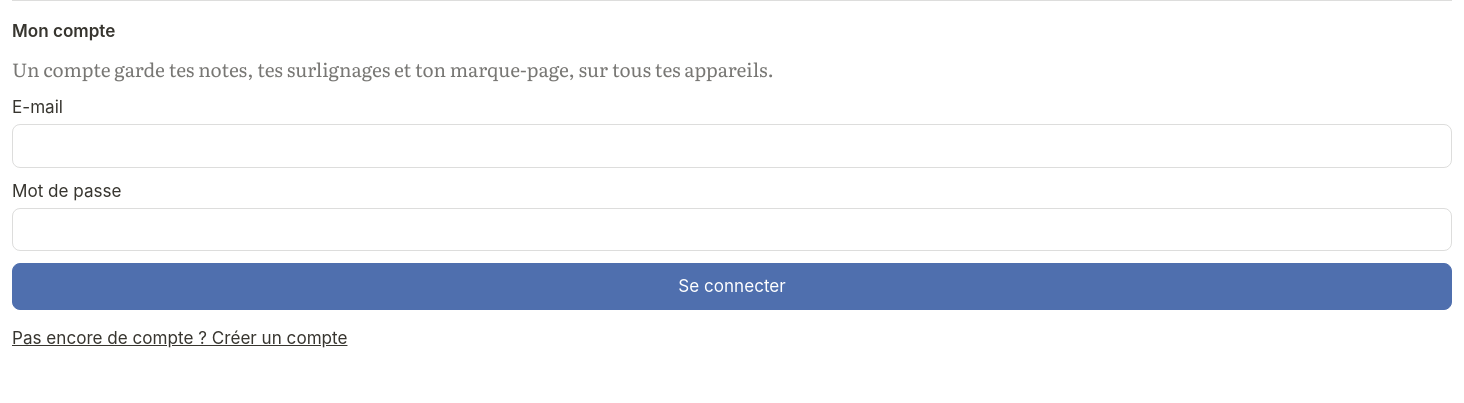
Test case: AccountSection › l'étape du code : renvoyer un code, ou changer d'adresse
The width and height of the screenshot is (1464, 403).
Type "marin@exemple.fr" into the field labelled "E-mail" at [732, 146], box [12,124,1452,168]
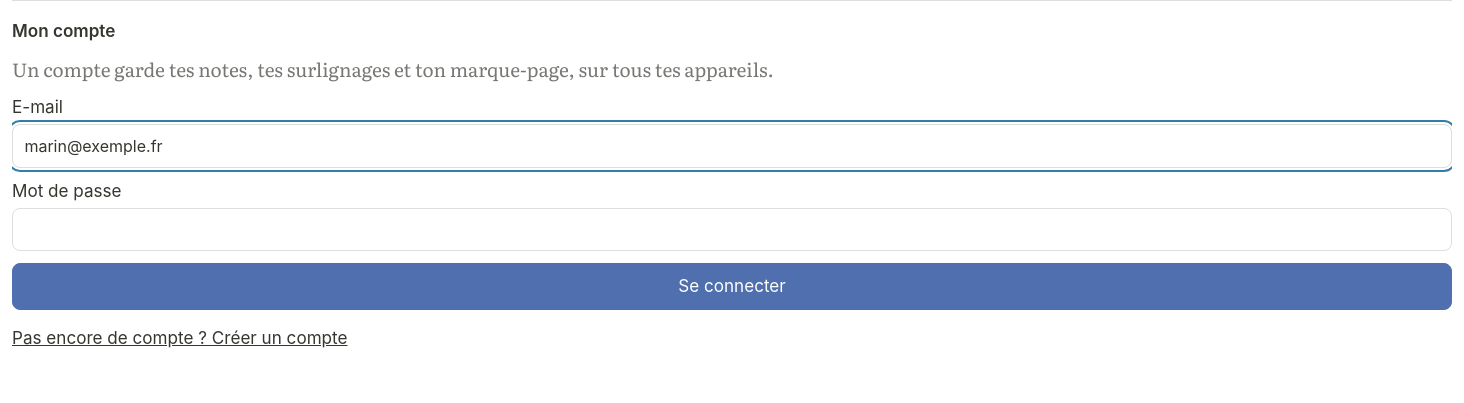
Type "un mot de passe long" into the password field labelled "Mot de passe" at [732, 230], box [12,208,1452,252]
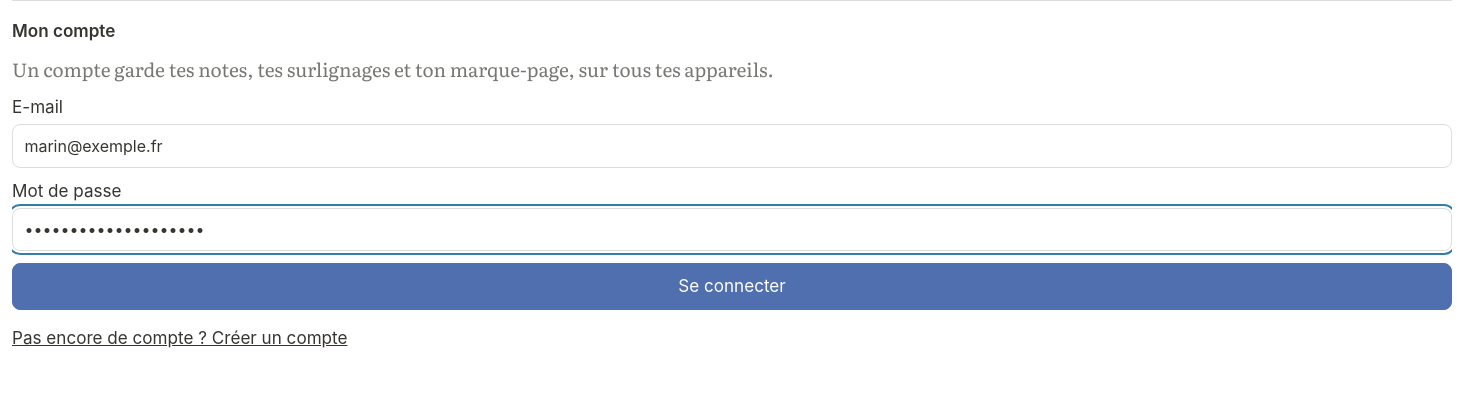
Click the button "Se connecter" at [732, 286], box [12,263,1452,310]
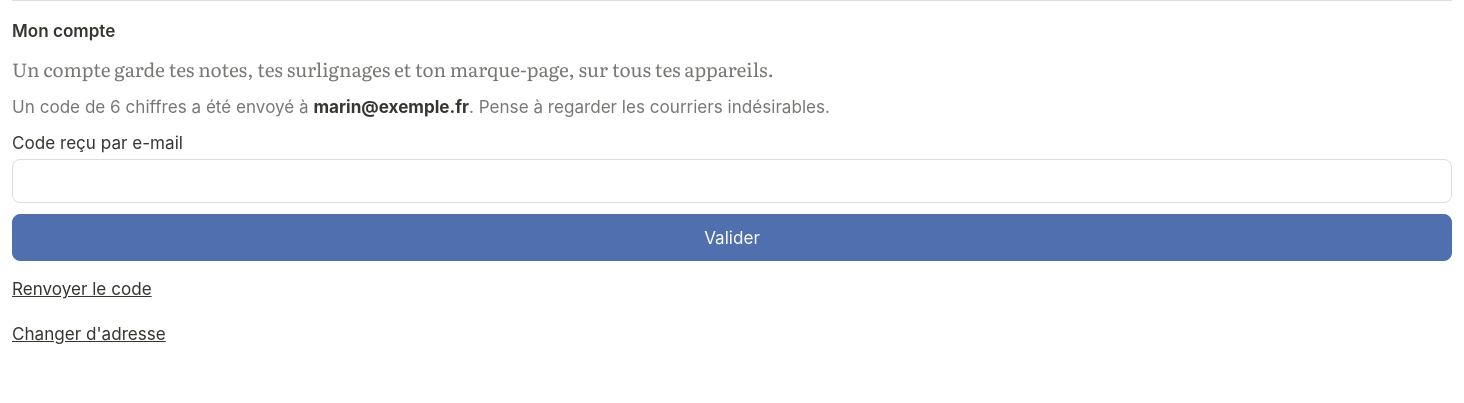
Click the button "Renvoyer le code" at [82, 289], box [12,273,1452,306]
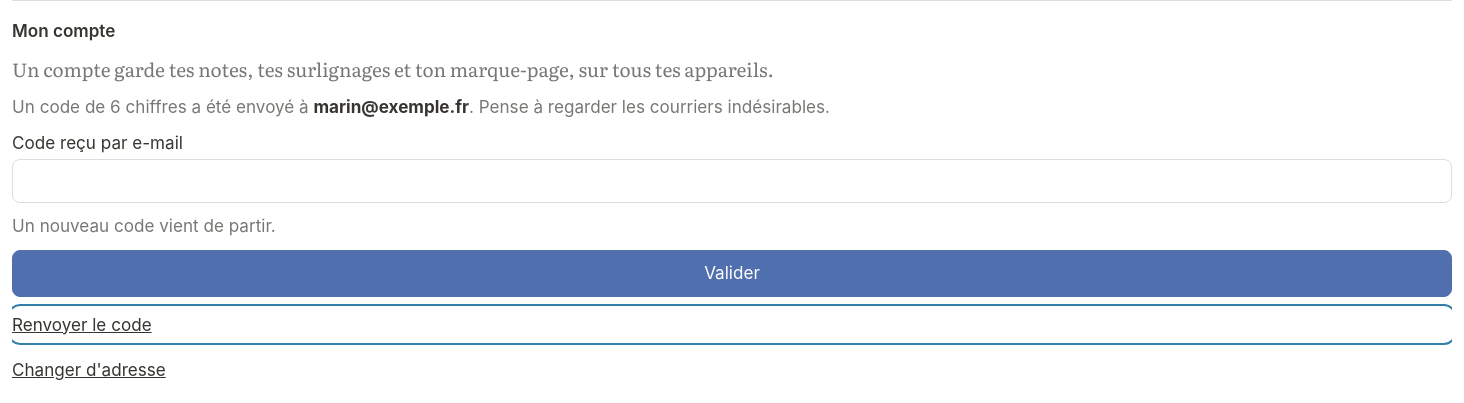
Check: the text "Un nouveau code vient de partir." is shown, box [12,215,276,236]
Click the button "Changer d'adresse" at [89, 369], box [12,353,1452,386]
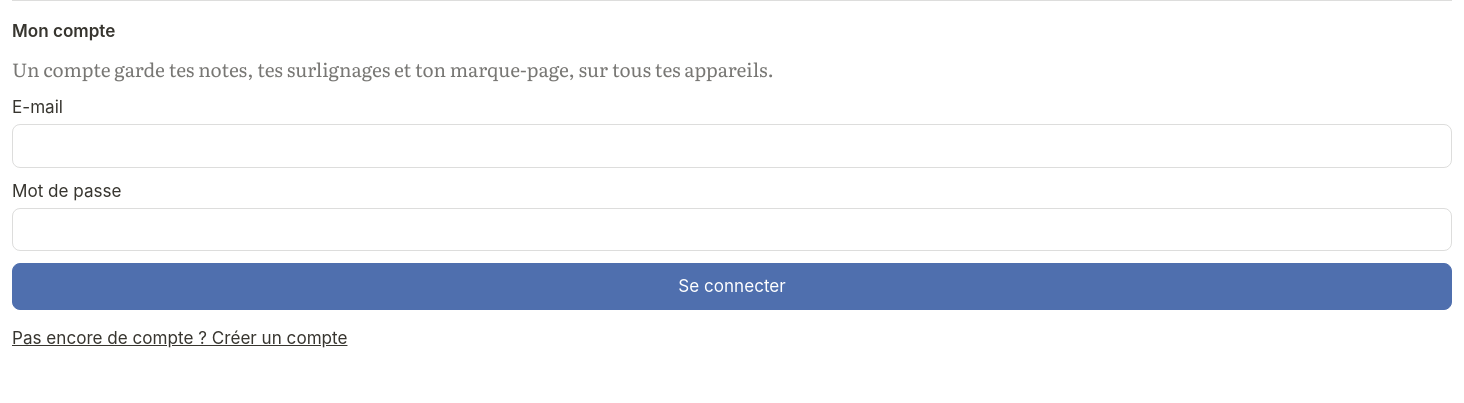
Check: the field labelled "E-mail" is shown, box [12,124,1452,168]
